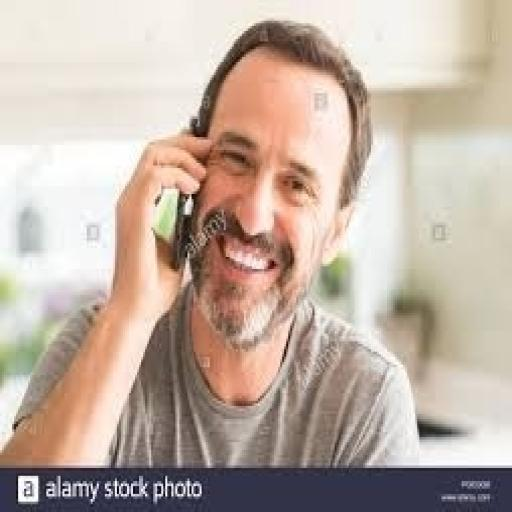texting: (0, 15, 423, 468)
